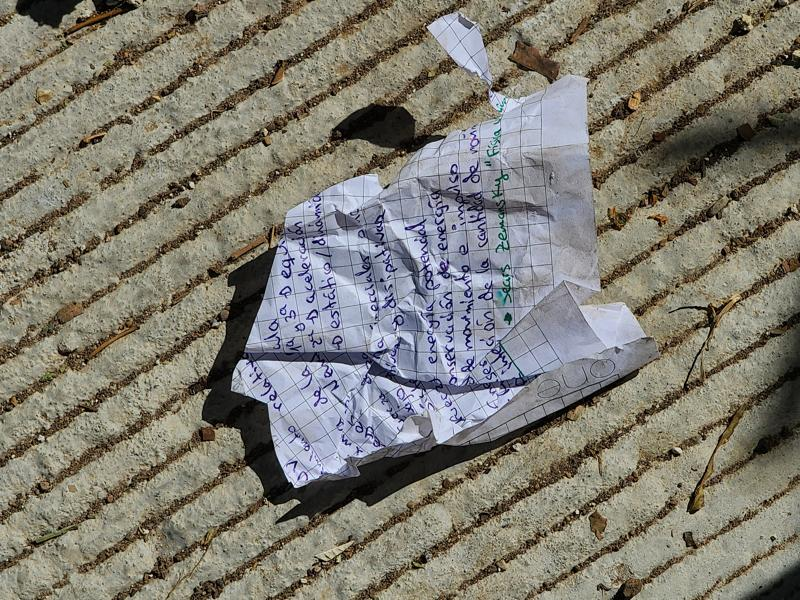papel: (201, 75, 656, 519)
